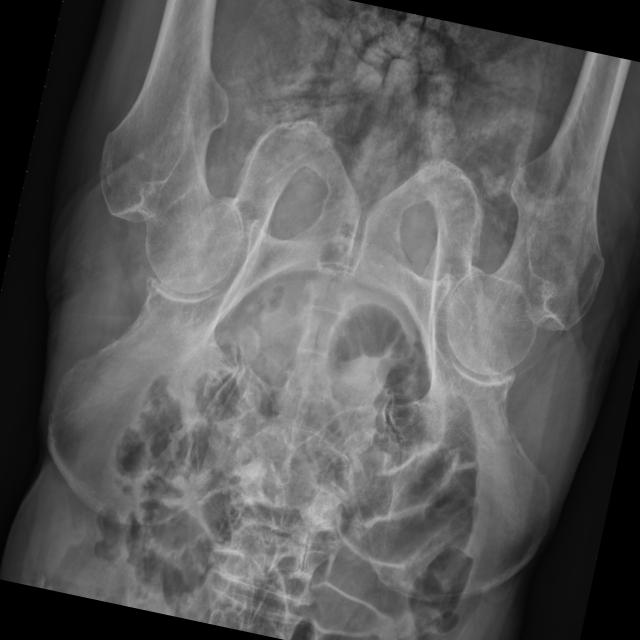normal-left: (98, 0, 240, 292)
normal-right: (445, 49, 630, 374)
